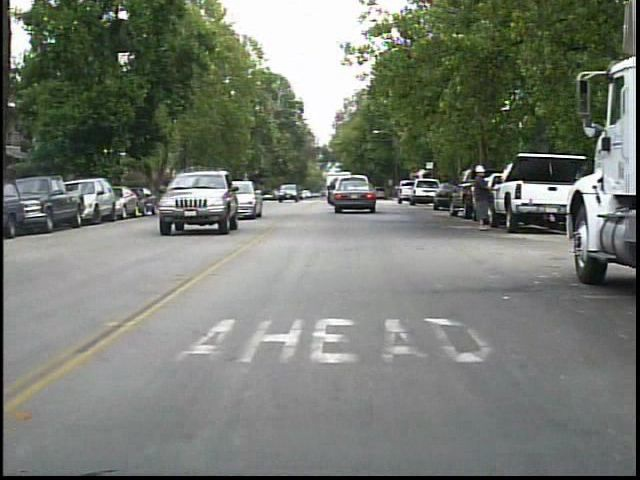person: (466, 161, 498, 234)
